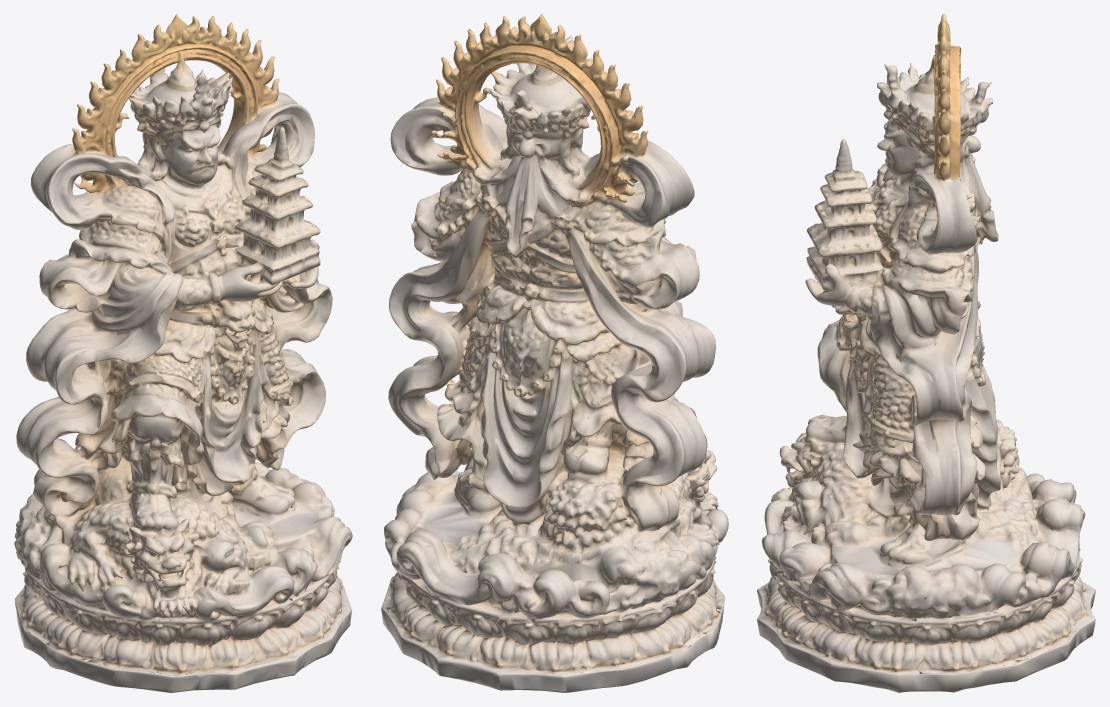
The picture shows the model from 3 angles, left to right: view 1: azimuth 30°, elevation 25°; view 2: azimuth 150°, elevation 25°; view 3: azimuth 270°, elevation 25°; orthographic projection. The views are drawn at different scales.
Parts seen in each view (by area): view 1: four-heavenly-kings-03; view 2: four-heavenly-kings-03; view 3: four-heavenly-kings-03.
Boxes of the visible parts, x1=… form: four-heavenly-kings-03: x1=14, y1=14, x2=352, y2=692; four-heavenly-kings-03: x1=381, y1=14, x2=728, y2=692; four-heavenly-kings-03: x1=757, y1=14, x2=1095, y2=692.
Bounding box in the file's own units: 0.5113 × 1 × 0.5098.
Materials: 1 (1 with a texture image).
